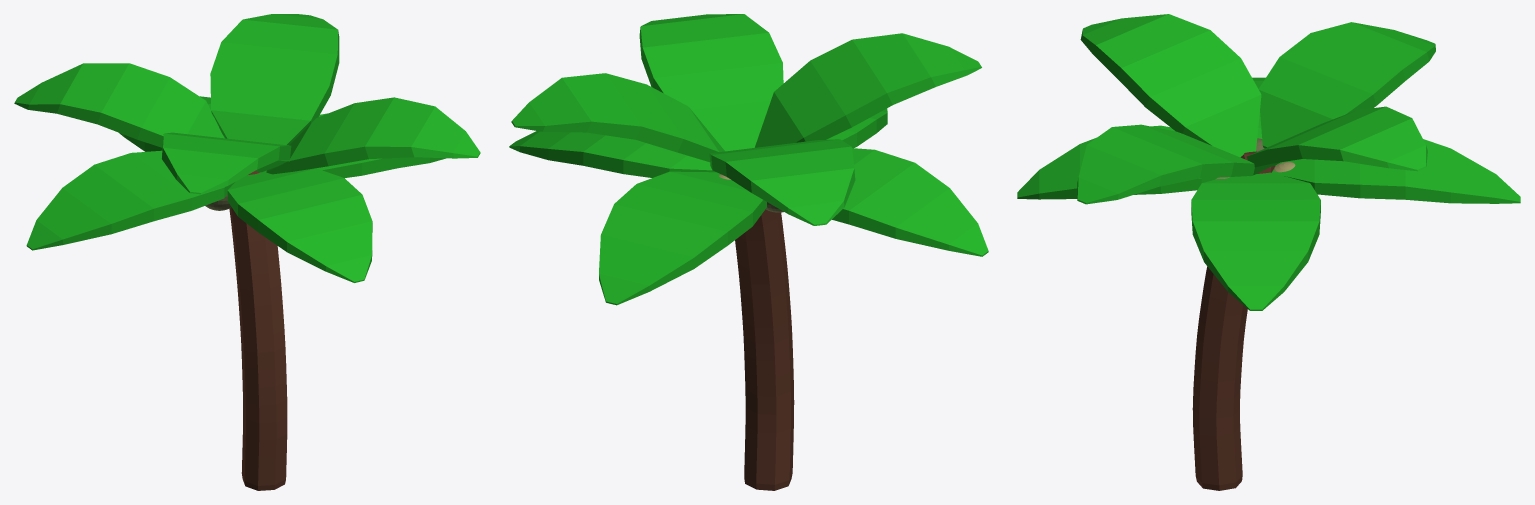
The model's file is coqueiro.fbx.
3 renders of one model, left to right at view 1: azimuth 30°, elevation 25°; view 2: azimuth 150°, elevation 25°; view 3: azimuth 270°, elevation 25°, orthographic. The views are drawn at different scales.
Visible parts, largest first — view 1: Cube, Plane; view 2: Cube, Plane; view 3: Cube, Plane.
Part boxes in pixels (<box>): Cube: <box>14,14,480,282</box>; Plane: <box>229,171,287,490</box>; Cube: <box>509,14,988,305</box>; Plane: <box>735,209,794,490</box>; Cube: <box>1017,14,1520,310</box>; Plane: <box>1192,151,1275,490</box>.
Size of the model in its own units: 513 by 435 by 490.
